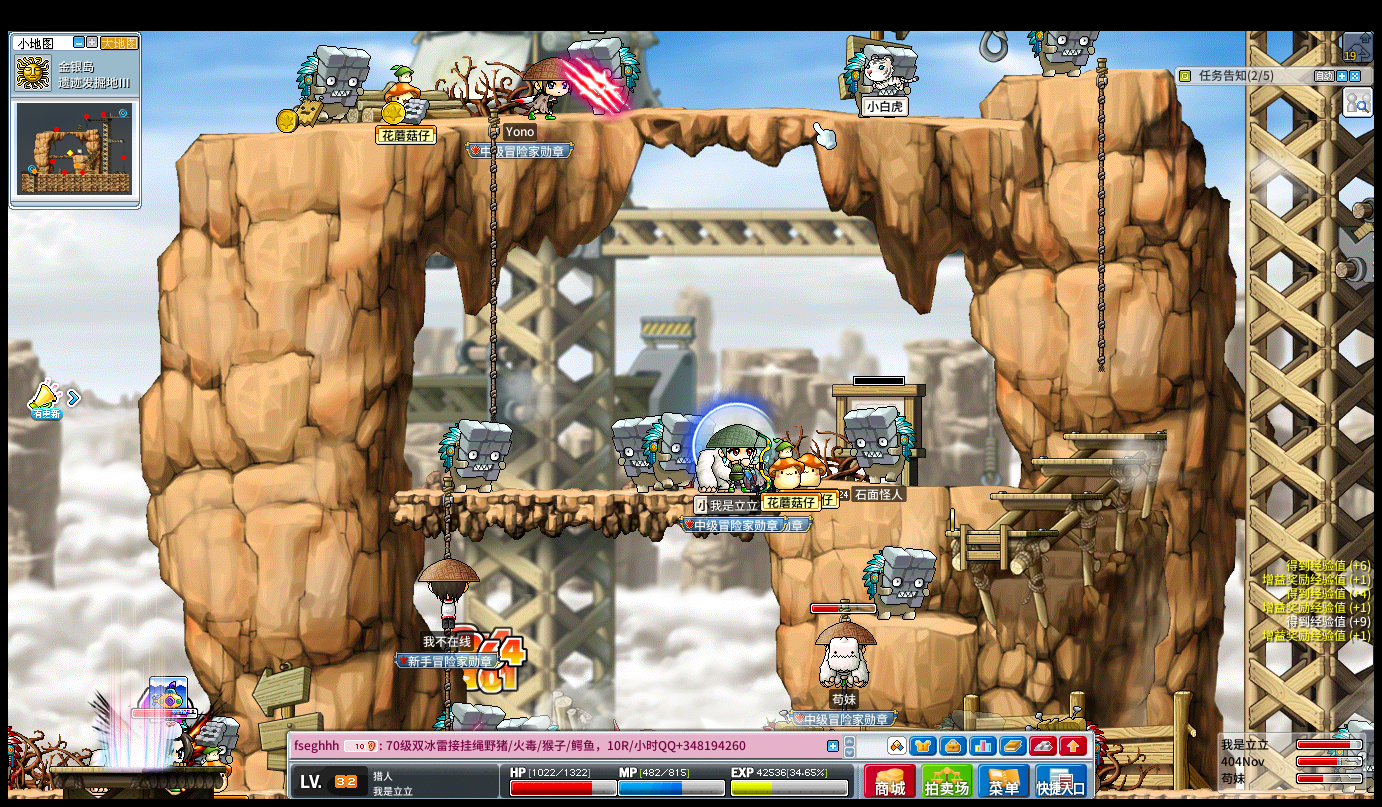floor: (180, 105, 1048, 137), (395, 487, 777, 500), (807, 479, 1028, 491), (863, 613, 977, 635), (1000, 68, 1170, 82), (807, 482, 1017, 493), (21, 764, 208, 775), (840, 484, 1015, 494), (1062, 429, 1168, 442), (989, 489, 1101, 499), (1025, 456, 1141, 464), (990, 492, 1103, 500), (945, 528, 1056, 536)
monster: (613, 412, 695, 492), (295, 43, 371, 125), (862, 545, 936, 622), (844, 405, 918, 482), (438, 418, 511, 494), (579, 37, 640, 113), (639, 411, 696, 491), (609, 415, 652, 493), (204, 715, 241, 766)
rope: (1095, 58, 1108, 380), (486, 108, 499, 422), (439, 483, 453, 561)
